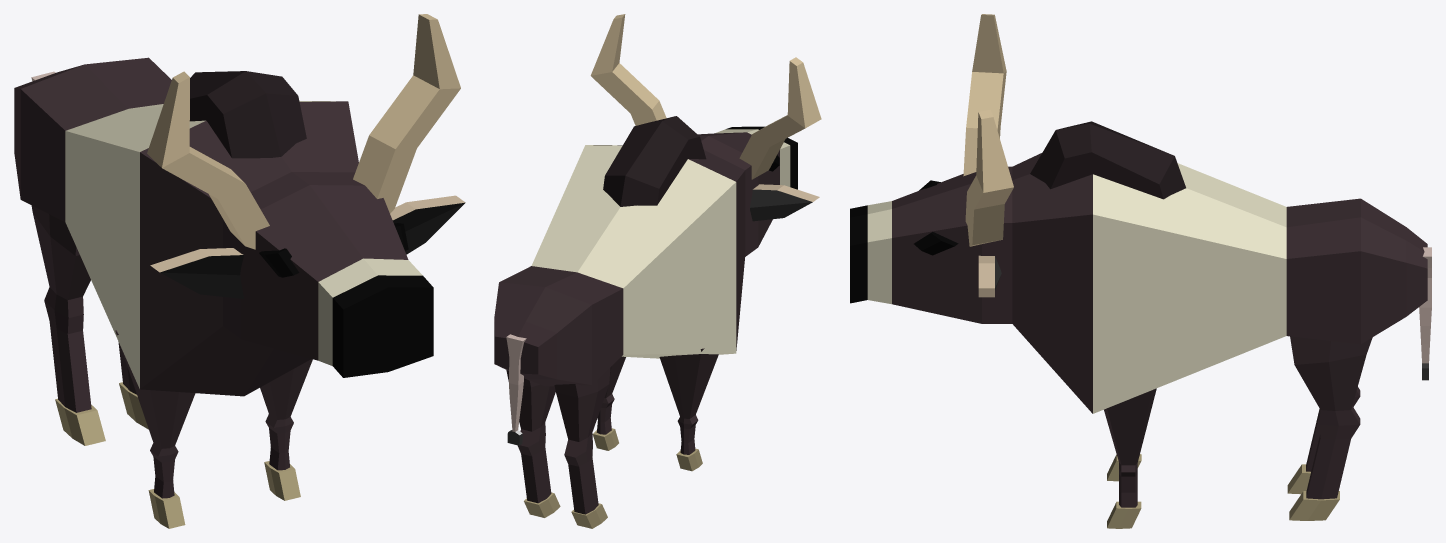
File: bull model (1).fbx
3 renders of one model, left to right at view 1: azimuth 30°, elevation 25°; view 2: azimuth 150°, elevation 25°; view 3: azimuth 270°, elevation 25°, orthographic. The views are drawn at different scales.
Parts seen in each view (by area): view 1: body, right_horn, hump, back_leg_left, left_horn_, front_leg_left, Cube_001, front_leg_right, Cube, back_foot_left, front_foot_left, front_foot_right (+2 smaller); view 2: body, hump, back_leg_left, left_horn_, back_leg_right, right_horn, front_leg_left, Cube_001, tail, front_leg_right, back_feet_right, back_foot_left (+2 smaller); view 3: body, back_leg_right, hump, right_horn, left_horn_, front_leg_right, tail, back_feet_right, Cube, front_foot_right.
Part boxes in pixels (left/top/right/bottom): body: left=14, top=57, right=433, bottom=396; right_horn: left=353, top=14, right=460, bottom=213; hump: left=189, top=71, right=306, bottom=158; back_leg_left: left=31, top=205, right=91, bottom=412; left_horn_: left=147, top=71, right=269, bottom=249; front_leg_left: left=115, top=330, right=195, bottom=498; Cube_001: left=150, top=248, right=243, bottom=298; front_leg_right: left=260, top=359, right=312, bottom=470; Cube: left=390, top=195, right=465, bottom=254; back_foot_left: left=55, top=398, right=105, bottom=445; front_foot_left: left=148, top=489, right=185, bottom=528; front_foot_right: left=264, top=461, right=300, bottom=500; body: left=494, top=126, right=797, bottom=386; hump: left=603, top=116, right=706, bottom=206; back_leg_left: left=554, top=367, right=610, bottom=514; left_horn_: left=739, top=57, right=821, bottom=179; back_leg_right: left=506, top=370, right=555, bottom=503; right_horn: left=590, top=14, right=666, bottom=125; front_leg_left: left=659, top=348, right=718, bottom=454; Cube_001: left=750, top=184, right=819, bottom=221; tail: left=506, top=334, right=526, bottom=445; front_leg_right: left=596, top=356, right=625, bottom=434; back_feet_right: left=524, top=492, right=560, bottom=517; back_foot_left: left=571, top=503, right=607, bottom=528; body: left=850, top=153, right=1427, bottom=413; back_leg_right: left=1290, top=336, right=1372, bottom=499; hump: left=1030, top=121, right=1185, bottom=199; right_horn: left=965, top=109, right=1013, bottom=246; left_horn_: left=963, top=14, right=1006, bottom=176; front_leg_right: left=1104, top=388, right=1156, bottom=507; tail: left=1419, top=247, right=1431, bottom=380; back_feet_right: left=1289, top=491, right=1339, bottom=520; Cube: left=978, top=255, right=1001, bottom=297; front_foot_right: left=1107, top=501, right=1141, bottom=528.
Bounding box in the file's own units: 16.97 × 27.71 × 33.23.
